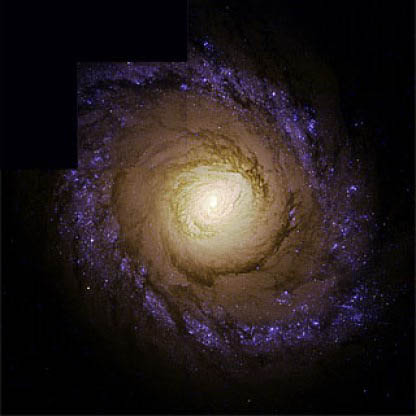Messier 94: (39, 42, 390, 367)
